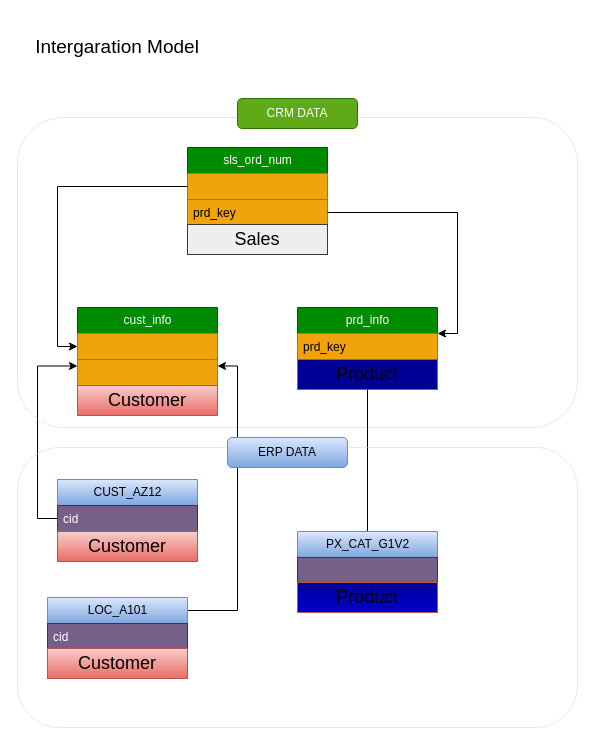
Some shapes in this 595 by 745 pixel diagram are drawn without their labels. Each missing label, with the centre of its shape:
"cst_id" belongs at point 147,346.
"cst_key" belongs at point 147,372.
"cust_id" belongs at point 257,186.
"id" belongs at point 367,570.
